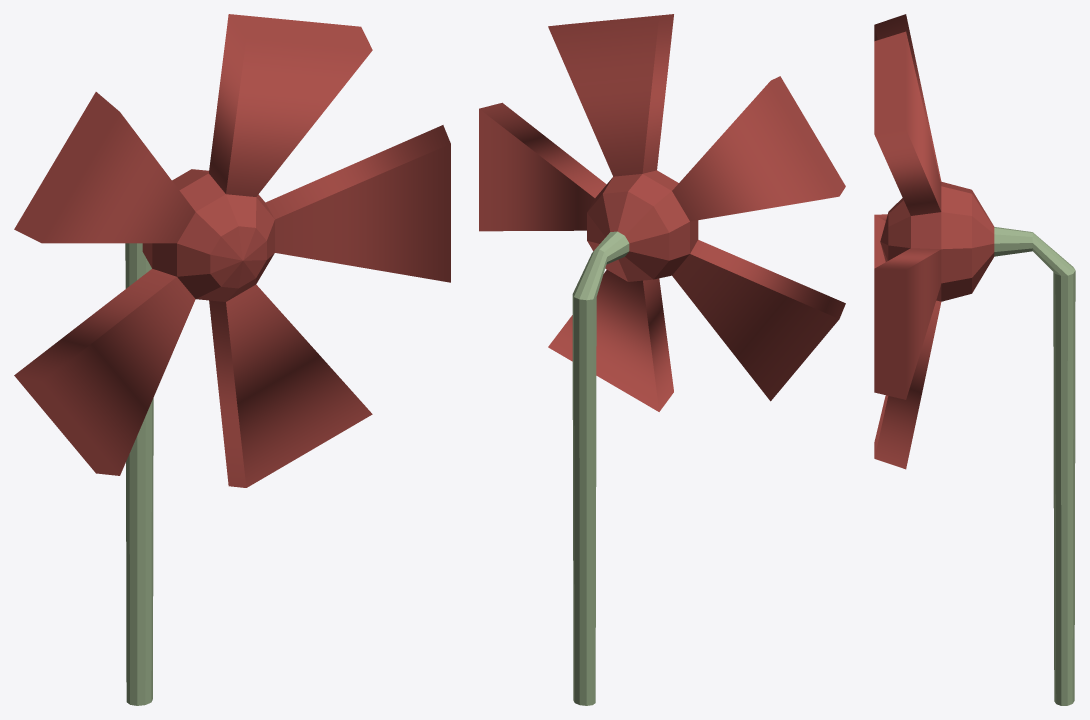
Rendered from geo_flower_02.fbx.
3 views of the same model, side by side, from view 1: azimuth 30°, elevation 25°; view 2: azimuth 150°, elevation 25°; view 3: azimuth 270°, elevation 25° (orthographic). The views are drawn at different scales.
Parts seen in each view (by area): view 1: geo_plantShrub_06; view 2: geo_plantShrub_06; view 3: geo_plantShrub_06.
Boxes of the visible parts, box(x1,y1,x2,y2) form: geo_plantShrub_06: box(14, 14, 450, 705); geo_plantShrub_06: box(479, 14, 845, 705); geo_plantShrub_06: box(874, 14, 1075, 705).
Size of the model in its own units: 11.24 by 18.82 by 5.12.
